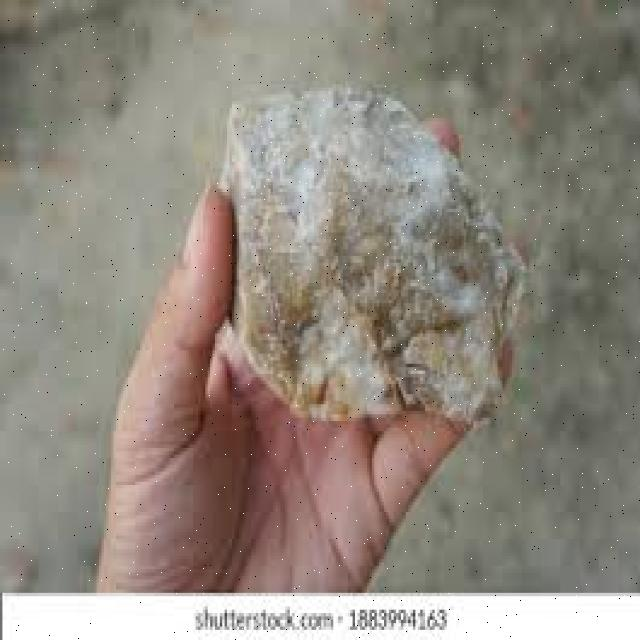Metamorphic: (212, 84, 529, 428)
